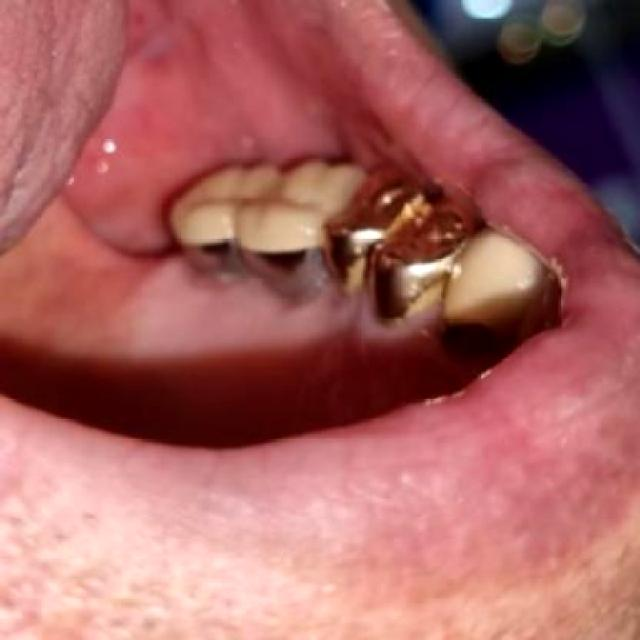Plaque: (153, 258, 434, 362)
